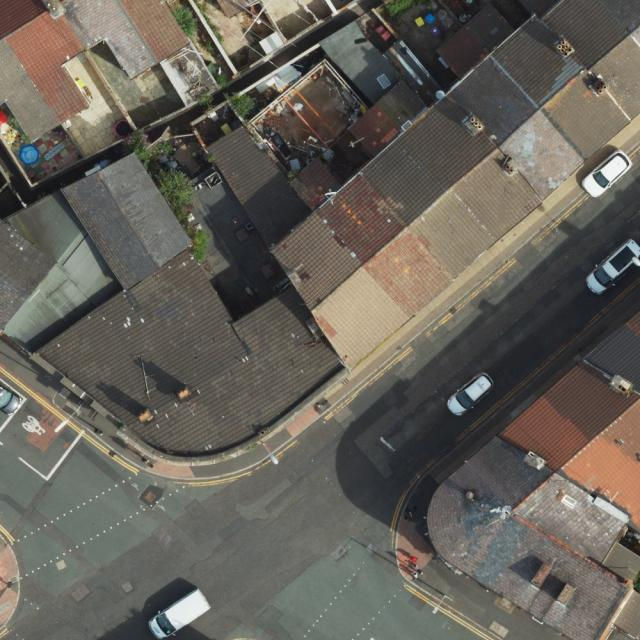roof: (2, 0, 639, 463), (428, 311, 640, 640), (0, 0, 193, 144)
skylight: (376, 73, 393, 93), (560, 494, 575, 510)
